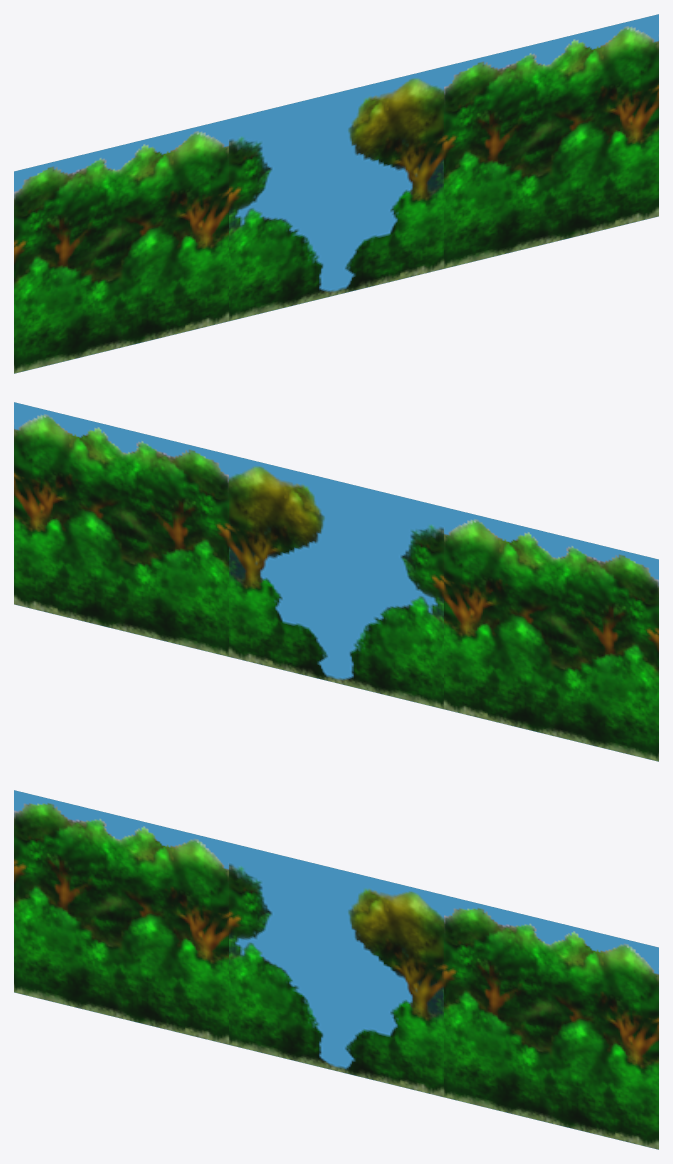
The picture shows the model from 3 angles, top to bottom: view 1: azimuth 30°, elevation 25°; view 2: azimuth 150°, elevation 25°; view 3: azimuth 330°, elevation 25°; orthographic projection.
Parts seen in each view (by area): view 1: Rectangle03; view 2: Rectangle03; view 3: Rectangle03.
Boxes of the visible parts, box(x1,y1,x2,y2) form: Rectangle03: box(14, 14, 658, 373); Rectangle03: box(14, 402, 658, 761); Rectangle03: box(14, 790, 658, 1149).
Size of the model in its own units: 4920 by 1476 by 0.
Materials: 2 (2 with a texture image).
